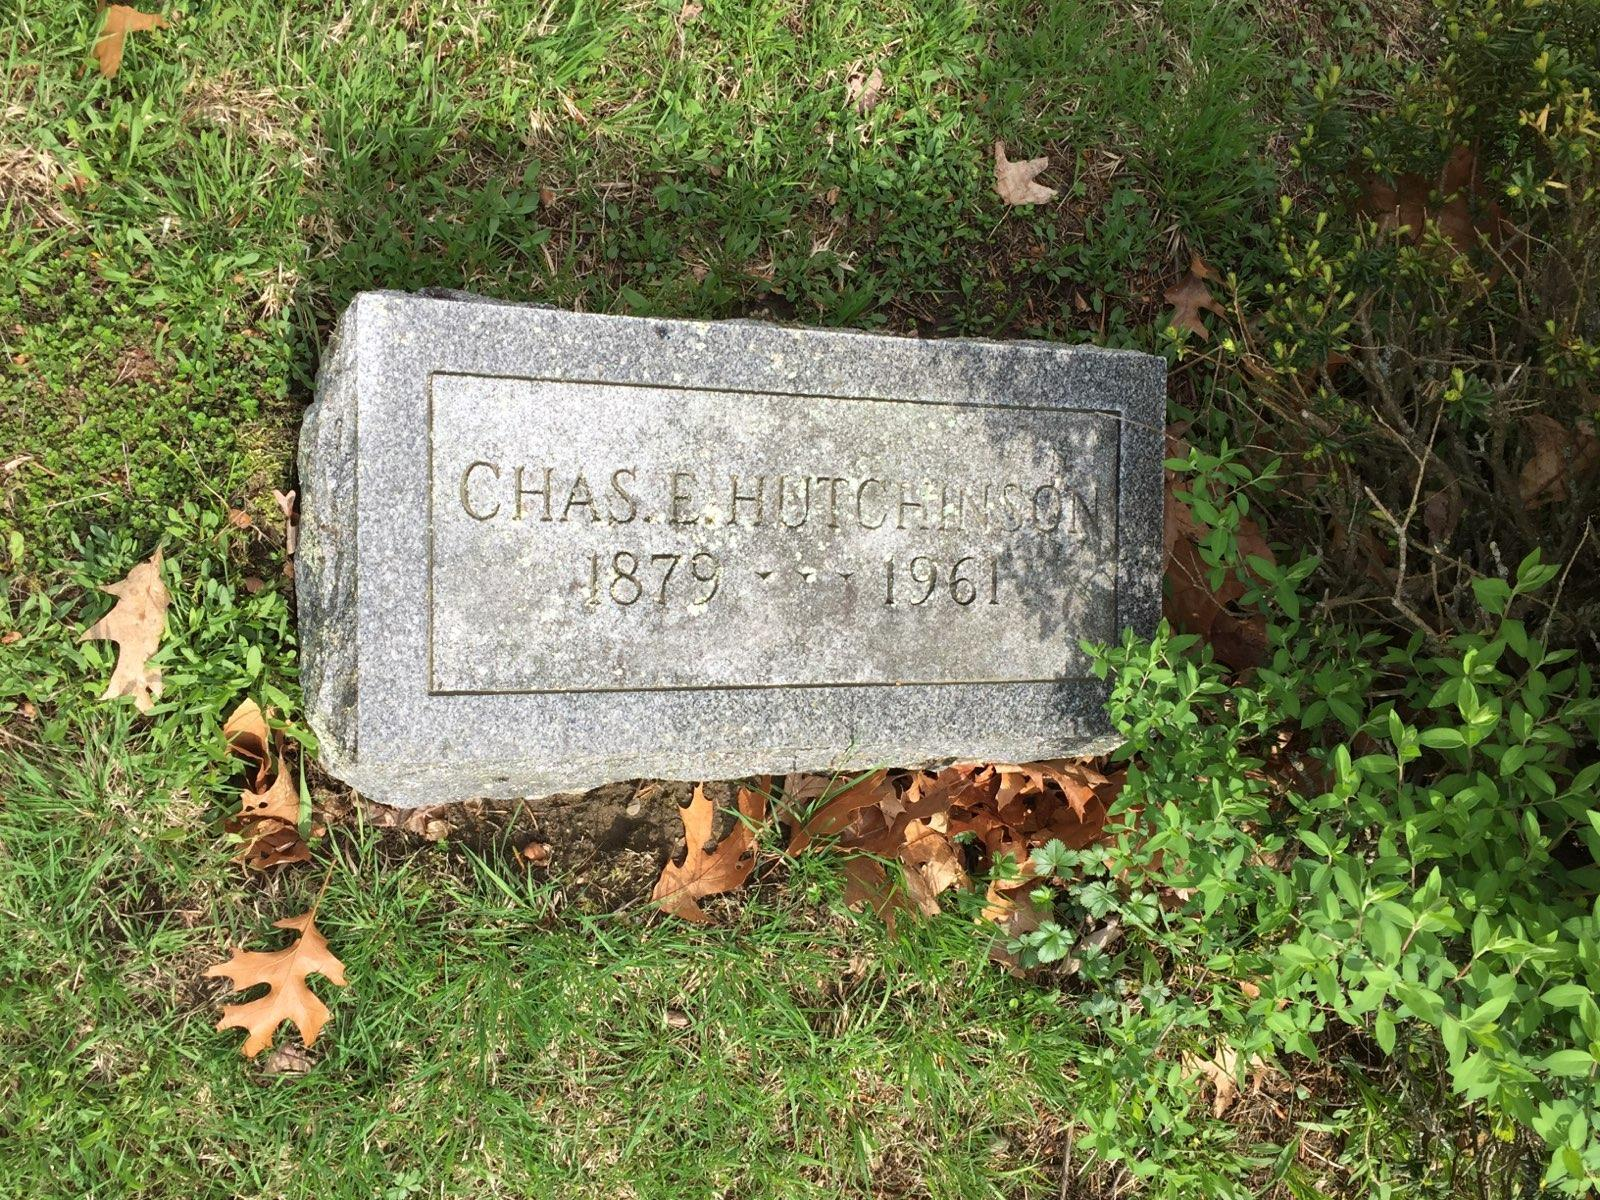flat: (311, 277, 1170, 800)
